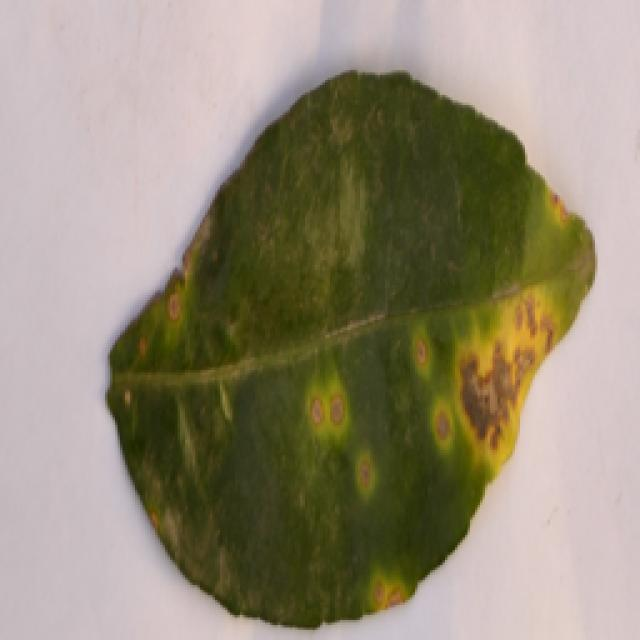canker: (100, 75, 602, 620)
